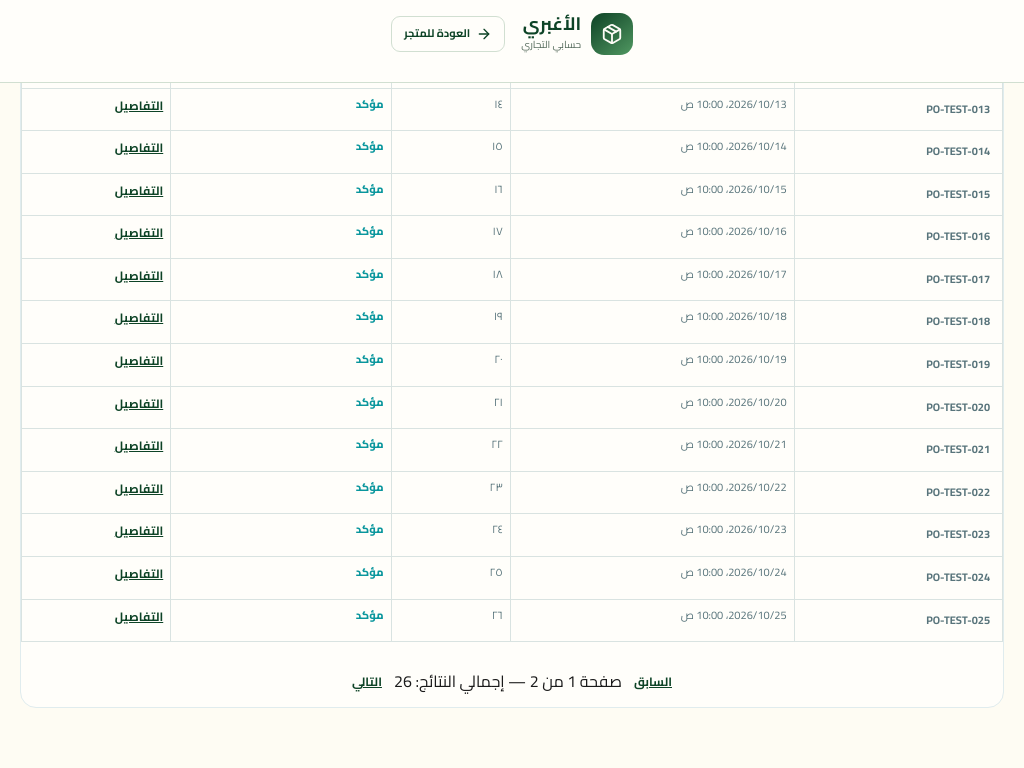
Scenario: customer order-list real route acceptance › uses exact counts, stable ranged pagination, and never renders financial fields
(page scrolled)
Click the button with aria-label "صفحة الطلبات التالية" at (367, 682), box [352,672,382,692]
(page scrolled)
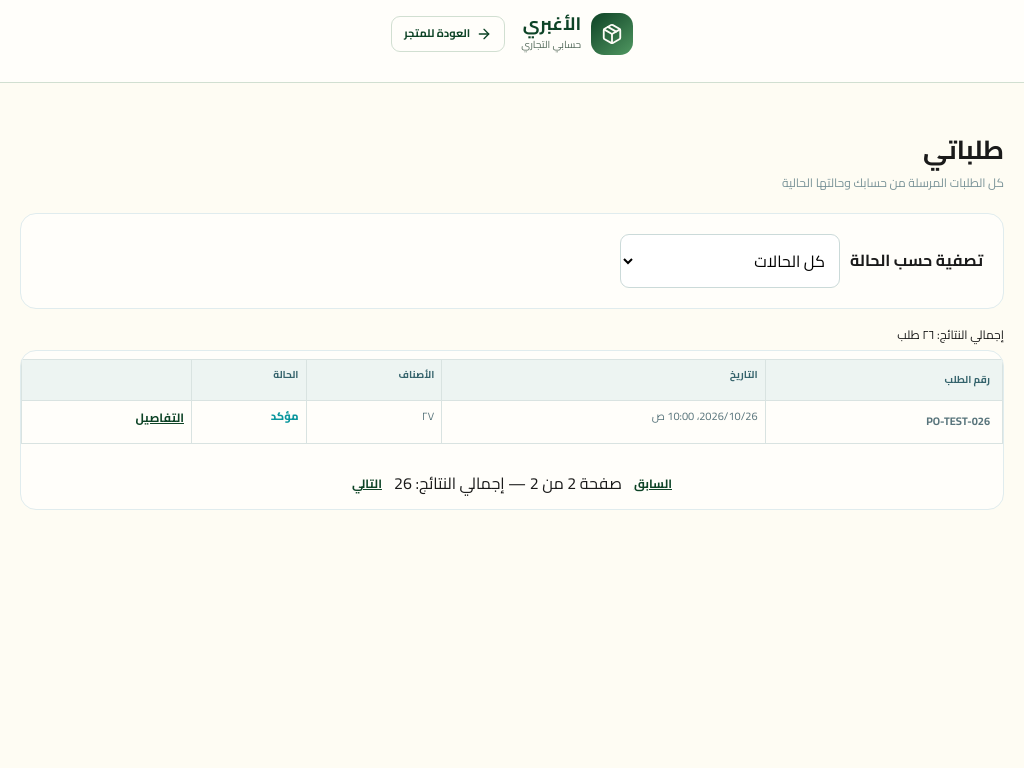
Now the text "PO-TEST-026" is shown, box [765,401,1002,444]
Now the button with aria-label "صفحة الطلبات السابقة" is enabled, box [634,474,672,493]
